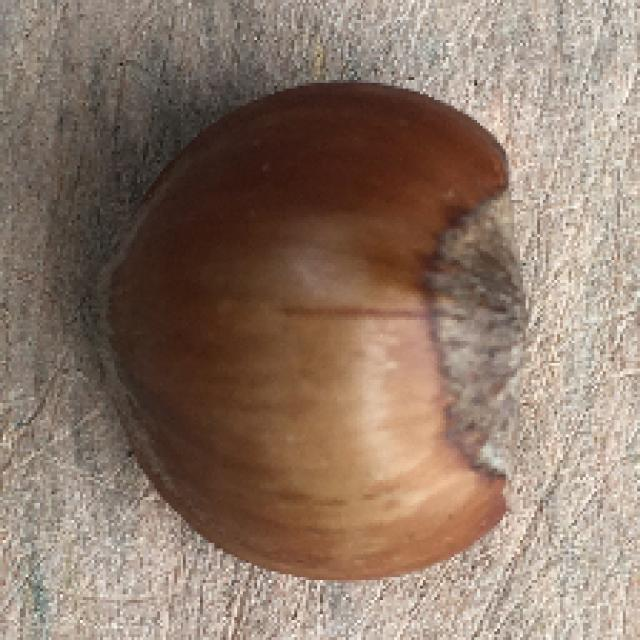DamagedHazelnut: (80, 88, 523, 588)
